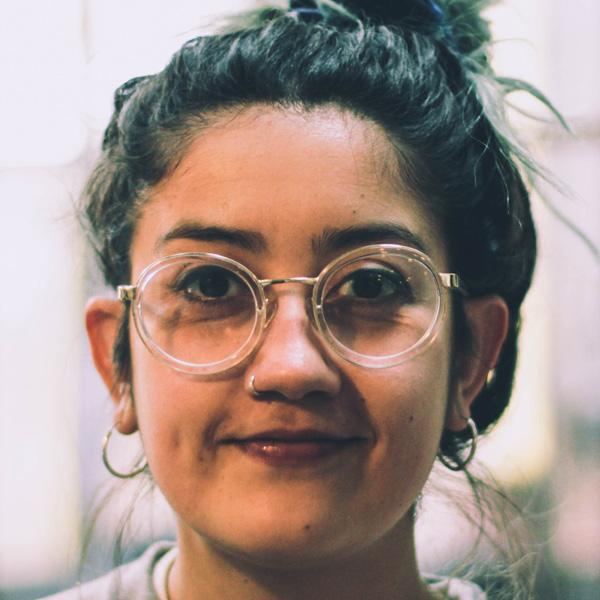Eyes: (169, 254, 255, 312), (325, 254, 409, 311)
